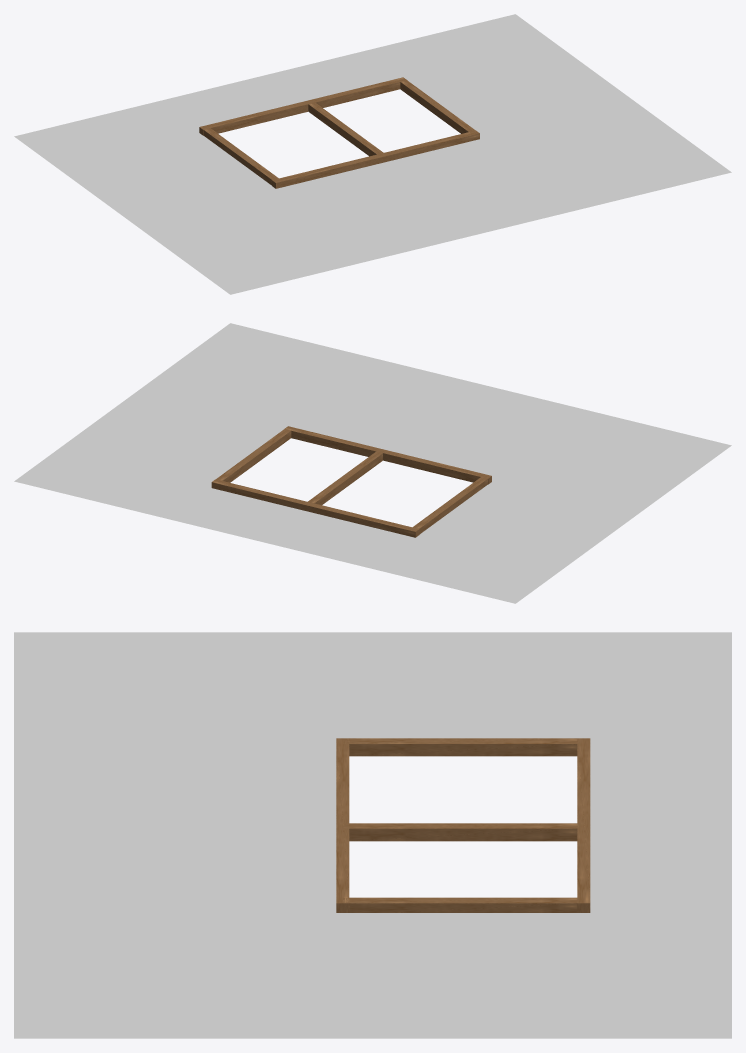
The model's file is aaa.FBX.
3 views of the same model, one above another, from view 1: azimuth 30°, elevation 25°; view 2: azimuth 150°, elevation 25°; view 3: azimuth 270°, elevation 25° (orthographic). The views are drawn at different scales.
Parts seen in each view (by area): view 1: Plane001, Box002, Box001, Box004, Box005, Box003; view 2: Plane001, Box001, Box002, Box005, Box004, Box003; view 3: Plane001, Box005, Box003, Box004, Box002, Box001.
Part boxes in pixels (x1,y1,x2,y2): Plane001: [14, 14, 731, 294]; Box002: [199, 77, 406, 135]; Box001: [272, 132, 479, 188]; Box004: [400, 80, 477, 133]; Box005: [308, 102, 384, 156]; Box003: [203, 128, 280, 185]; Plane001: [14, 323, 731, 603]; Box001: [284, 426, 491, 484]; Box002: [211, 479, 419, 537]; Box005: [308, 450, 384, 505]; Box004: [216, 429, 291, 482]; Box003: [413, 476, 489, 533]; Plane001: [14, 632, 731, 1038]; Box005: [343, 823, 577, 841]; Box003: [343, 738, 577, 756]; Box004: [343, 897, 577, 912]; Box002: [577, 738, 590, 912]; Box001: [336, 738, 349, 912].
Size of the model in its own units: 104 by 1.48 by 77.88.
